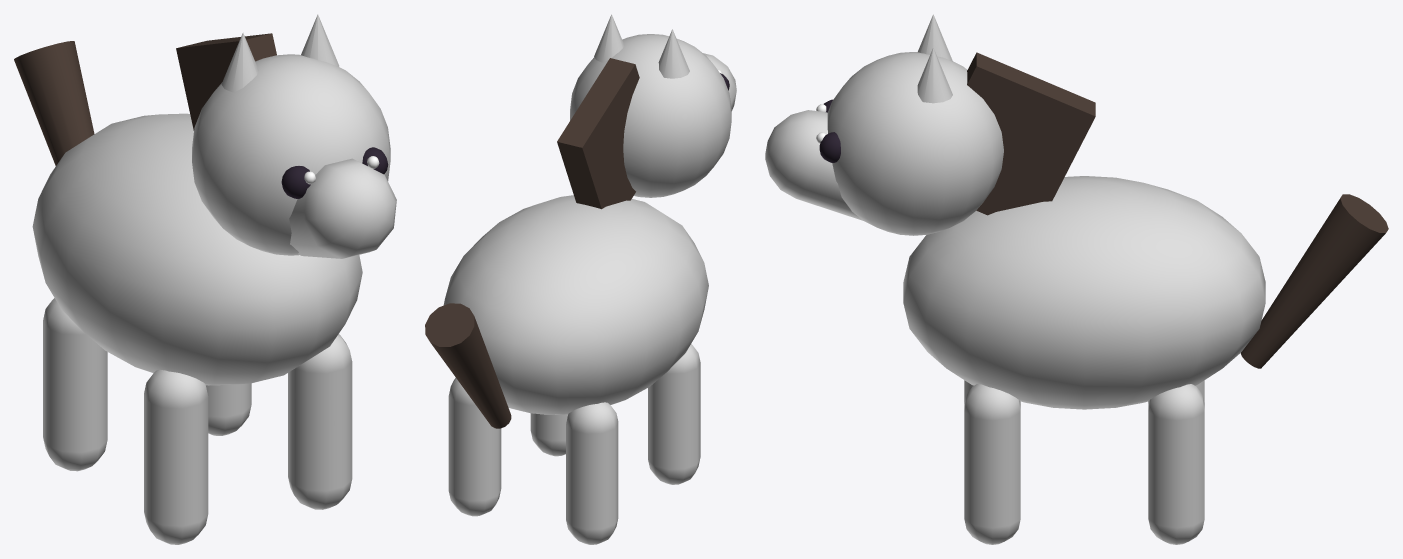
File: pet_horse_ph.glb
3 renders of one model, left to right at view 1: azimuth 30°, elevation 25°; view 2: azimuth 150°, elevation 25°; view 3: azimuth 270°, elevation 25°, orthographic. The views are drawn at different scales.
Parts seen in each view (by area): view 1: pet_horse; view 2: pet_horse; view 3: pet_horse.
Boxes of the visible parts, x1,y1,x2,y2 form: pet_horse: (14, 14, 396, 544); pet_horse: (425, 14, 736, 544); pet_horse: (765, 14, 1388, 544).
Bounding box in the file's own units: 0.42 × 0.805 × 0.9488.
